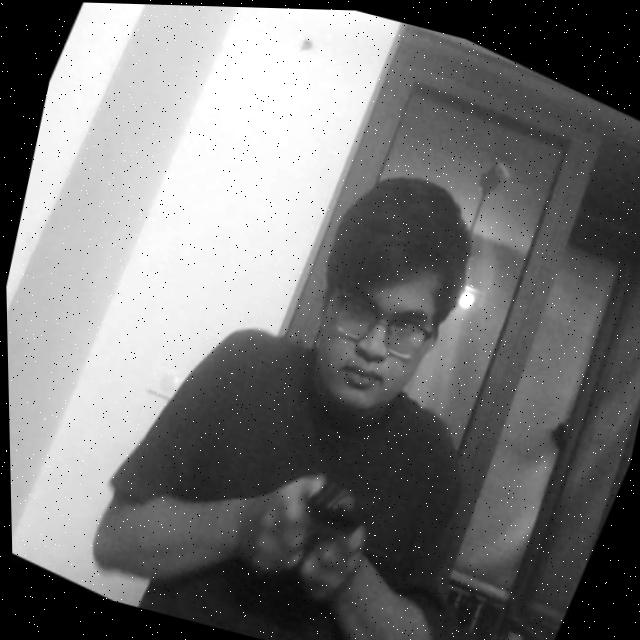phone: (265, 447, 384, 556)
